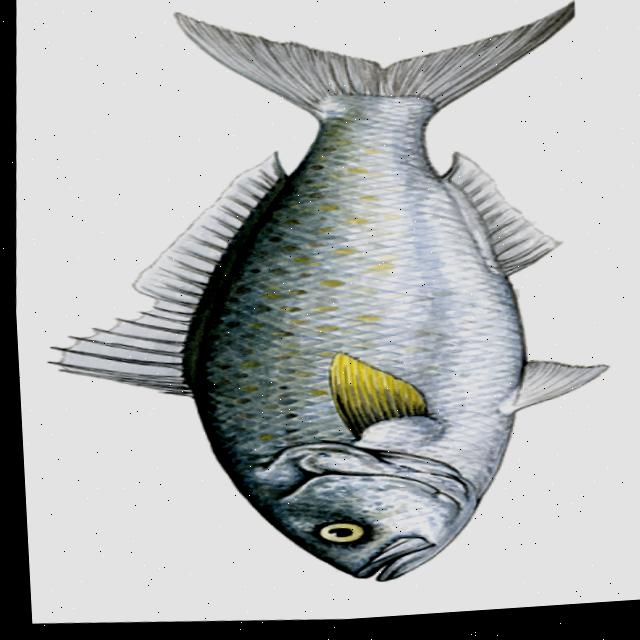Australian Salmon: (7, 0, 636, 617)
